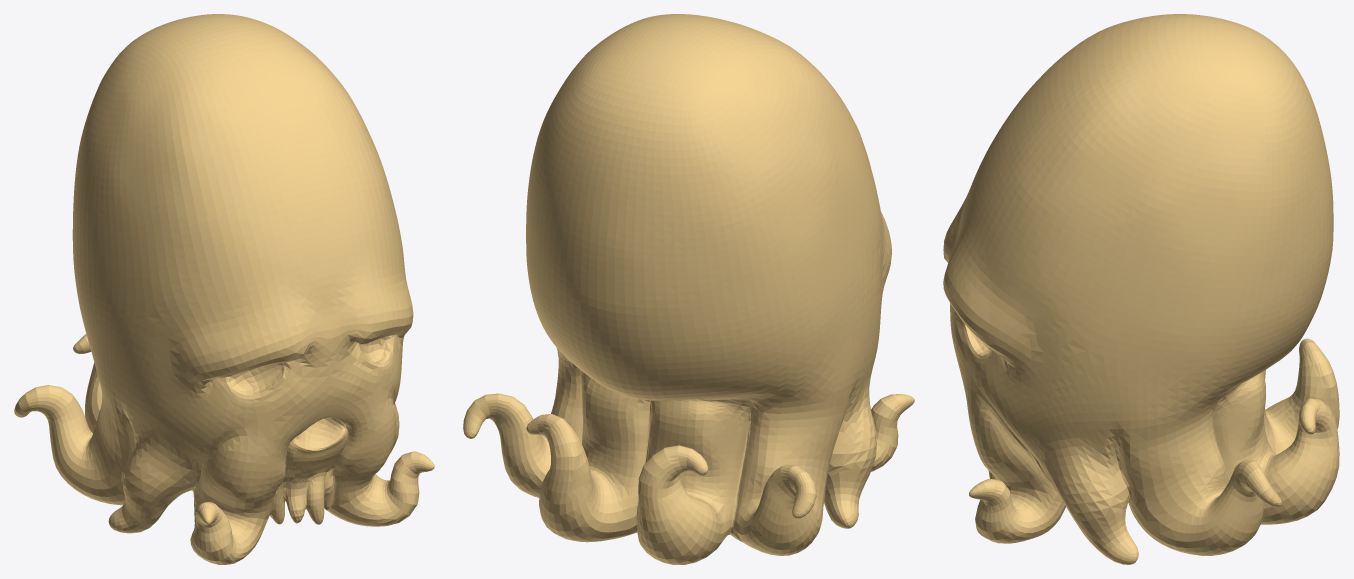
File: 06_funkie.glb
The picture shows the model from 3 angles, left to right: view 1: azimuth 30°, elevation 25°; view 2: azimuth 150°, elevation 25°; view 3: azimuth 270°, elevation 25°; orthographic projection. The views are drawn at different scales.
Parts seen in each view (by area): view 1: ARTBAT_DEEPSiCO_06_Funkie_V2_merged_68mm_web; view 2: ARTBAT_DEEPSiCO_06_Funkie_V2_merged_68mm_web; view 3: ARTBAT_DEEPSiCO_06_Funkie_V2_merged_68mm_web.
Boxes of the visible parts, <box> form: ARTBAT_DEEPSiCO_06_Funkie_V2_merged_68mm_web: <box>14,14,434,564</box>; ARTBAT_DEEPSiCO_06_Funkie_V2_merged_68mm_web: <box>463,14,914,564</box>; ARTBAT_DEEPSiCO_06_Funkie_V2_merged_68mm_web: <box>943,14,1339,564</box>.
Bounding box in the file's own units: 0.051 × 0.068 × 0.0517.
